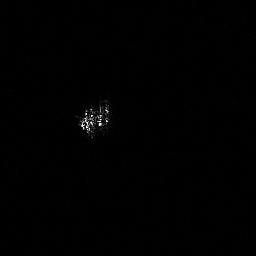ship: (76, 95, 112, 143)
